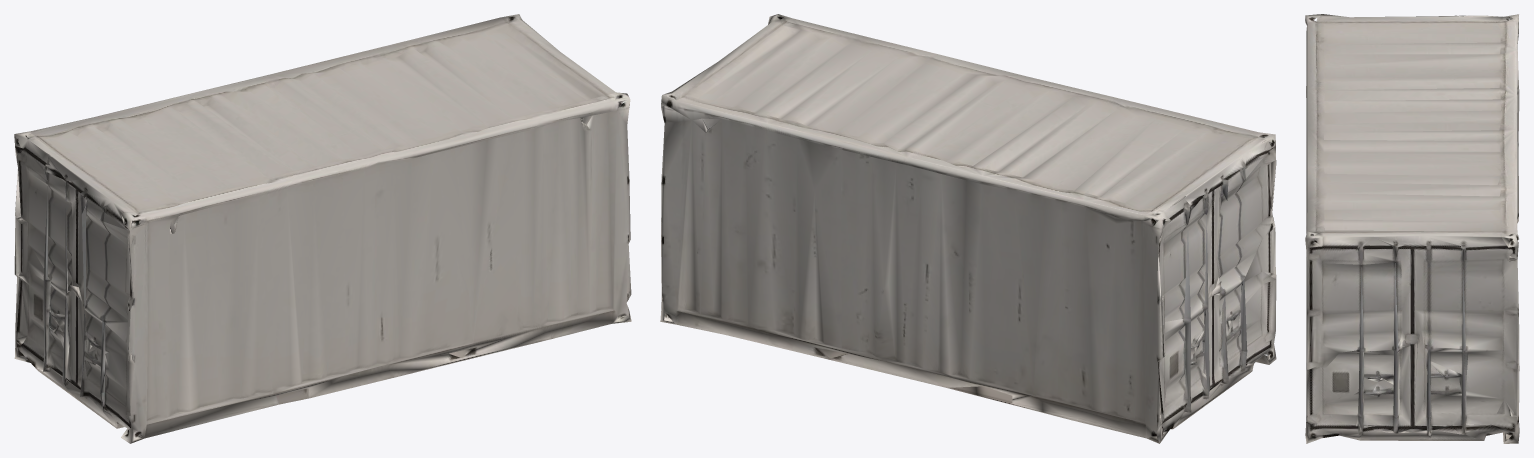
File: container.glb
3 renders of one model, left to right at view 1: azimuth 30°, elevation 25°; view 2: azimuth 150°, elevation 25°; view 3: azimuth 270°, elevation 25°, orthographic. The views are drawn at different scales.
Visible parts, largest first — view 1: tripo_node_2a47353a-3737-40ae-a8ce-6fef36a67cd3; view 2: tripo_node_2a47353a-3737-40ae-a8ce-6fef36a67cd3; view 3: tripo_node_2a47353a-3737-40ae-a8ce-6fef36a67cd3.
Part boxes in pixels (x1,y1,x2,y2): tripo_node_2a47353a-3737-40ae-a8ce-6fef36a67cd3: (14,14,631,443); tripo_node_2a47353a-3737-40ae-a8ce-6fef36a67cd3: (660,14,1276,443); tripo_node_2a47353a-3737-40ae-a8ce-6fef36a67cd3: (1305,14,1519,443).
Size of the model in its own units: 6.06 by 2.59 by 2.44.
1 material, 1 textured.
